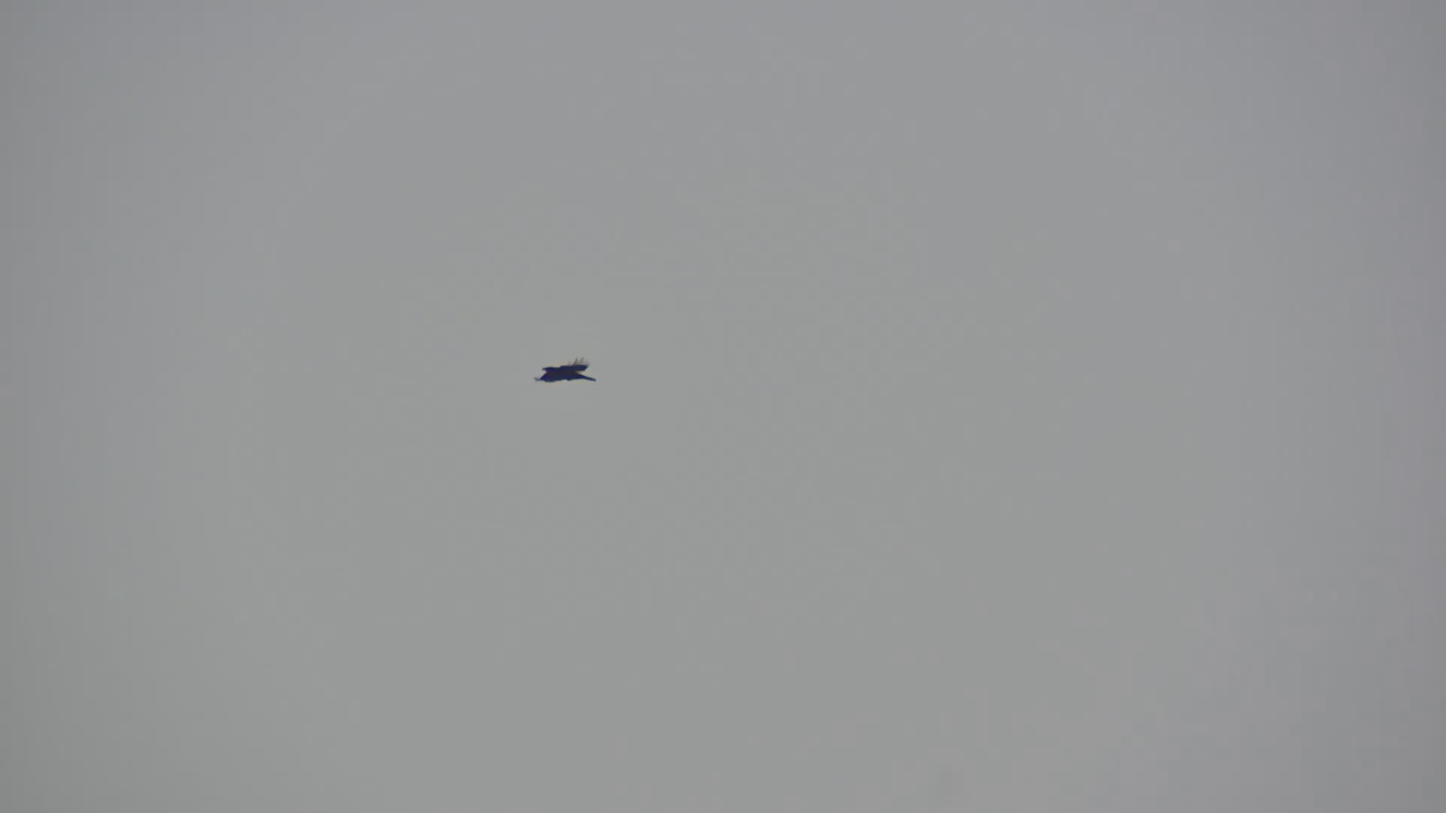Crow: (533, 355, 598, 383)
